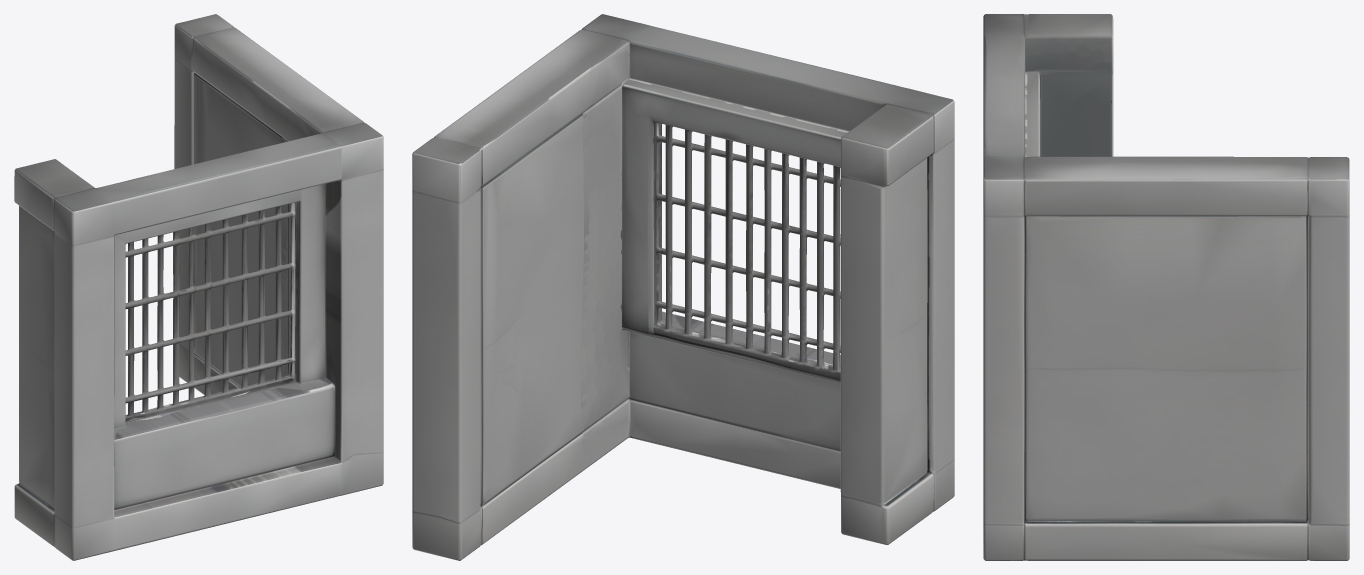
Rendered from prison_cell_walls_001_001.glb.
3 views of the same model, side by side, from view 1: azimuth 30°, elevation 25°; view 2: azimuth 150°, elevation 25°; view 3: azimuth 270°, elevation 25° (orthographic). The views are drawn at different scales.
Visible parts, largest first — view 1: 3156dfaf-8216-4cff-a47c-6b40d7512c61_texturing.obj; view 2: 3156dfaf-8216-4cff-a47c-6b40d7512c61_texturing.obj; view 3: 3156dfaf-8216-4cff-a47c-6b40d7512c61_texturing.obj.
Boxes of the visible parts, x1,y1,x2,y2 form: 3156dfaf-8216-4cff-a47c-6b40d7512c61_texturing.obj: (14, 14, 383, 560); 3156dfaf-8216-4cff-a47c-6b40d7512c61_texturing.obj: (412, 14, 954, 560); 3156dfaf-8216-4cff-a47c-6b40d7512c61_texturing.obj: (983, 14, 1349, 560).
Bounding box in the file's own units: 2.79 × 3 × 2.6.
Materials: 1 (1 with a texture image).
